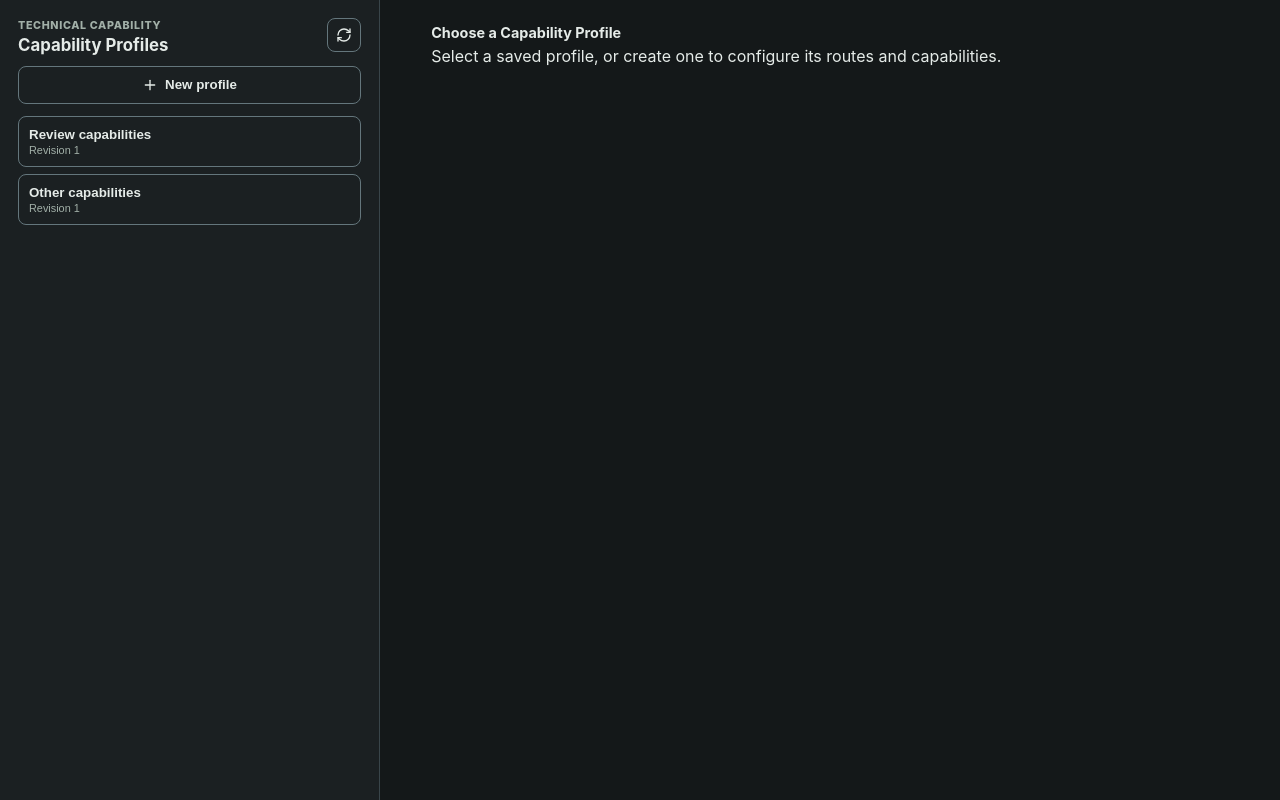
Scenario: offers each provider setup as a profile route without exposing credentials
Click the button "New profile".
click(190, 85)  # box [18, 66, 361, 104]
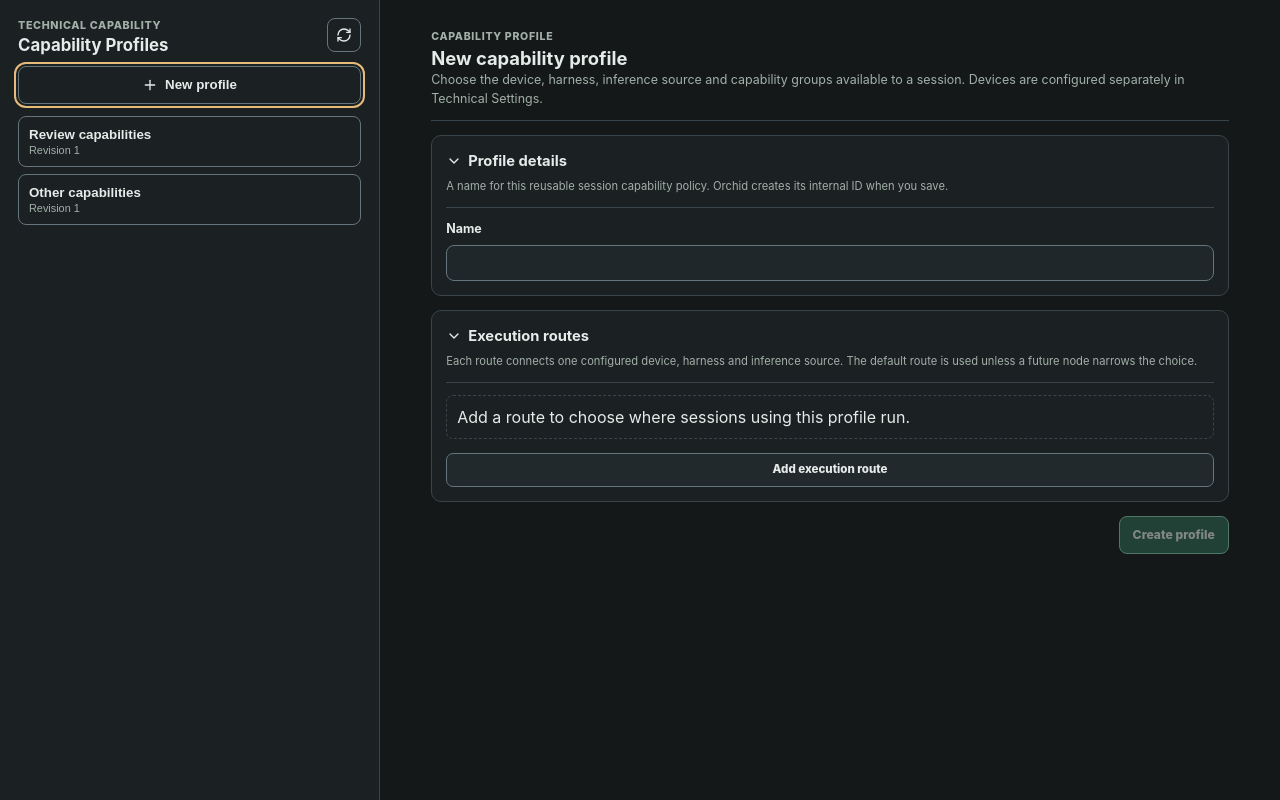
Click the button "Add execution route".
click(830, 470)  # box [446, 453, 1214, 487]
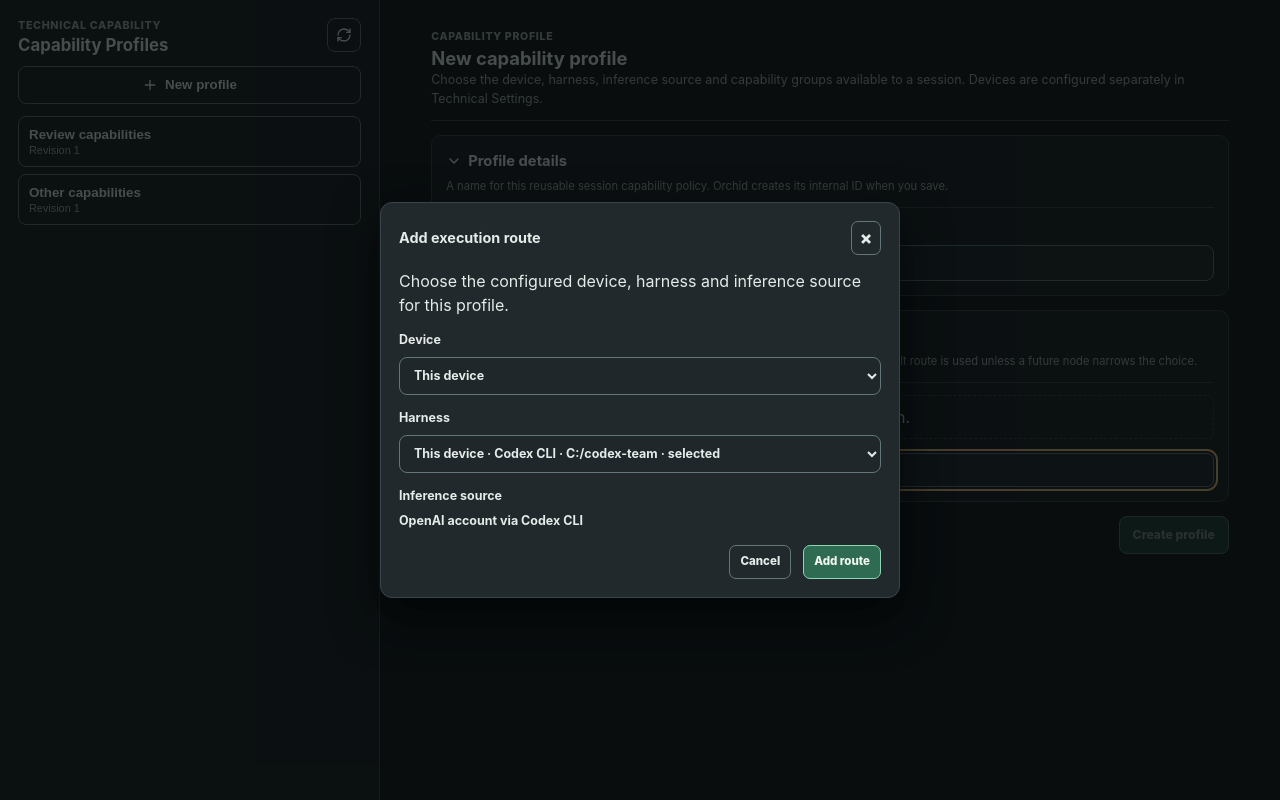
Now the dropdown labelled "Harness" shows "This device · Codex CLI · C:/codex-team · selected", box [399, 434, 881, 472]
Now the text "OpenAI account via Codex CLI" is shown, box [399, 513, 583, 528]
